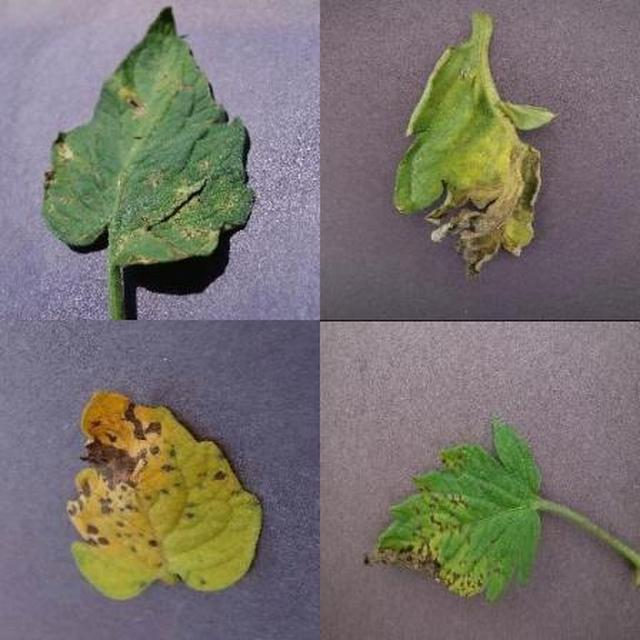Septoria Leaf: (214, 196, 640, 640)
